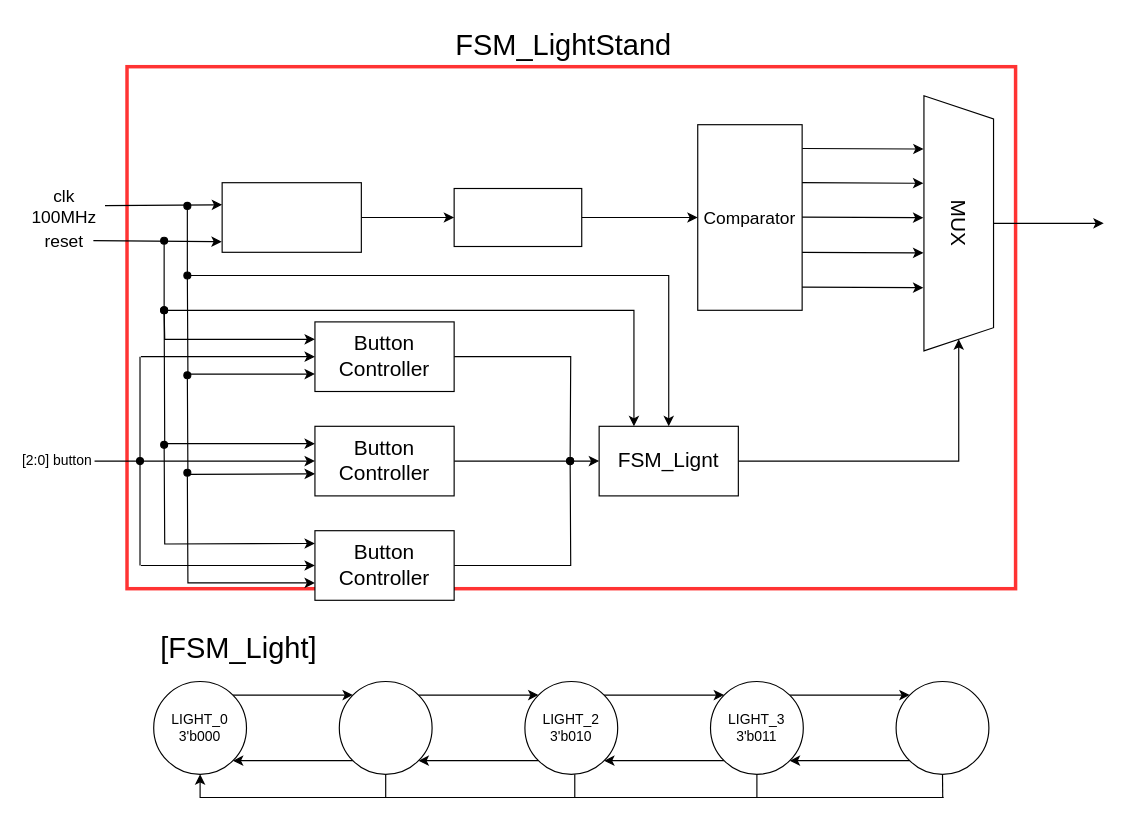
Some shapes in this 1133 by 827 pixel diagram are drawn without their labels. The box of each missing label's shape, as (x1, y1, x2, y2) in pixels:
ClockDivider: (221, 182, 361, 252)
Counter: (453, 187, 582, 246)
LIGHT_1 3'b001: (338, 680, 432, 774)
LIGHT_4 3'b100: (895, 680, 989, 774)
